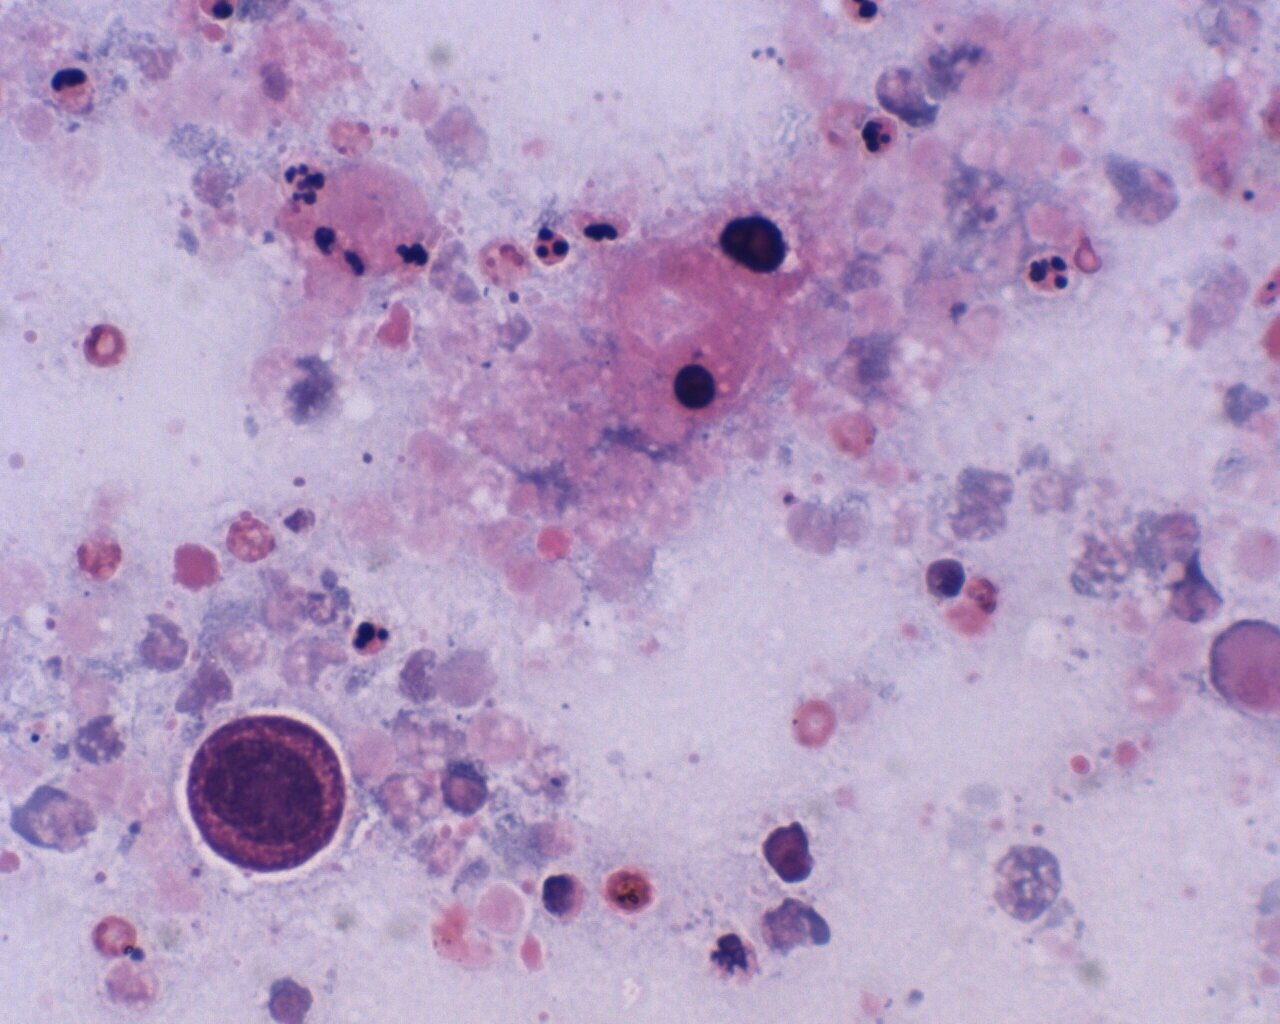ab: (185, 709, 343, 877)
neutro: (1022, 251, 1077, 298), (856, 104, 905, 154), (353, 620, 400, 665), (532, 223, 574, 269)
